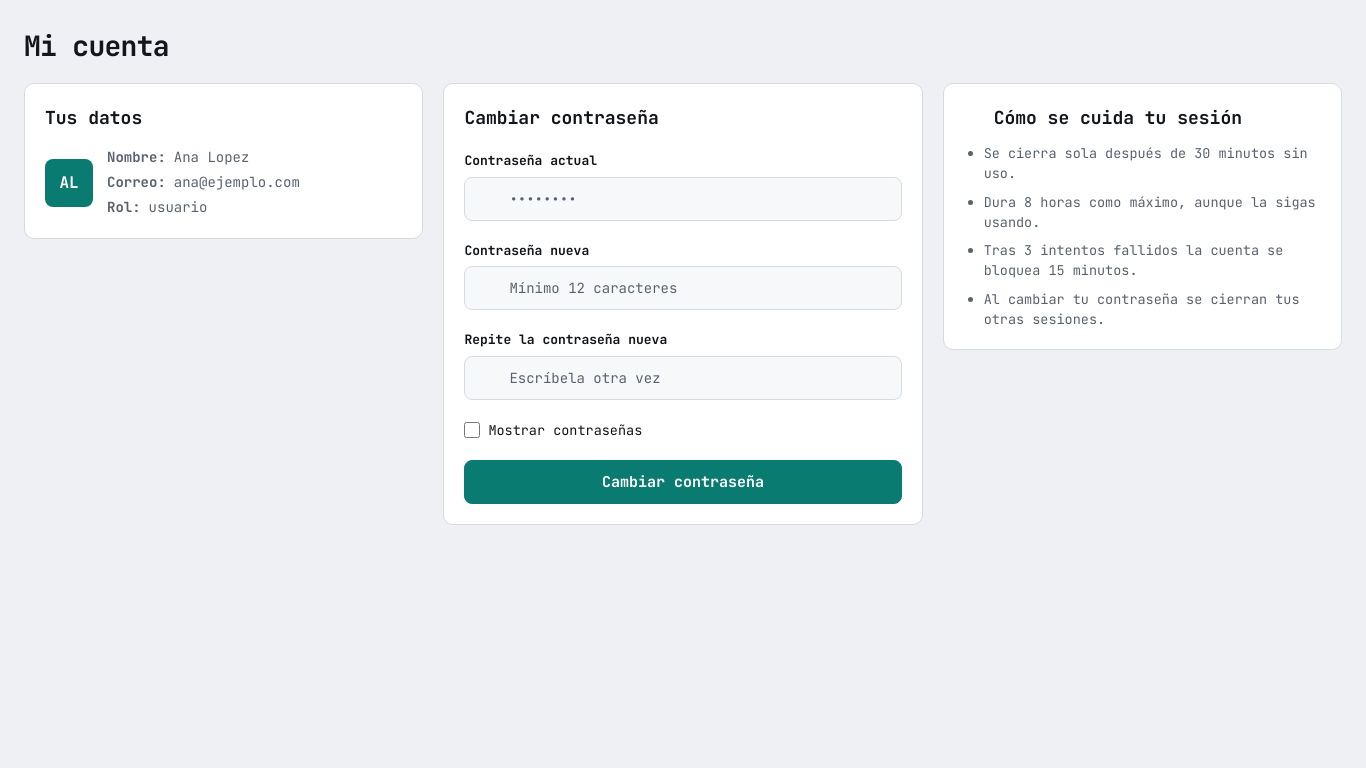
Test case: PaginaMiCuenta › no envía si actual / corta / corta
Type "actual" into the password field labelled "Contraseña actual" at (683, 198), box [464, 176, 902, 220]
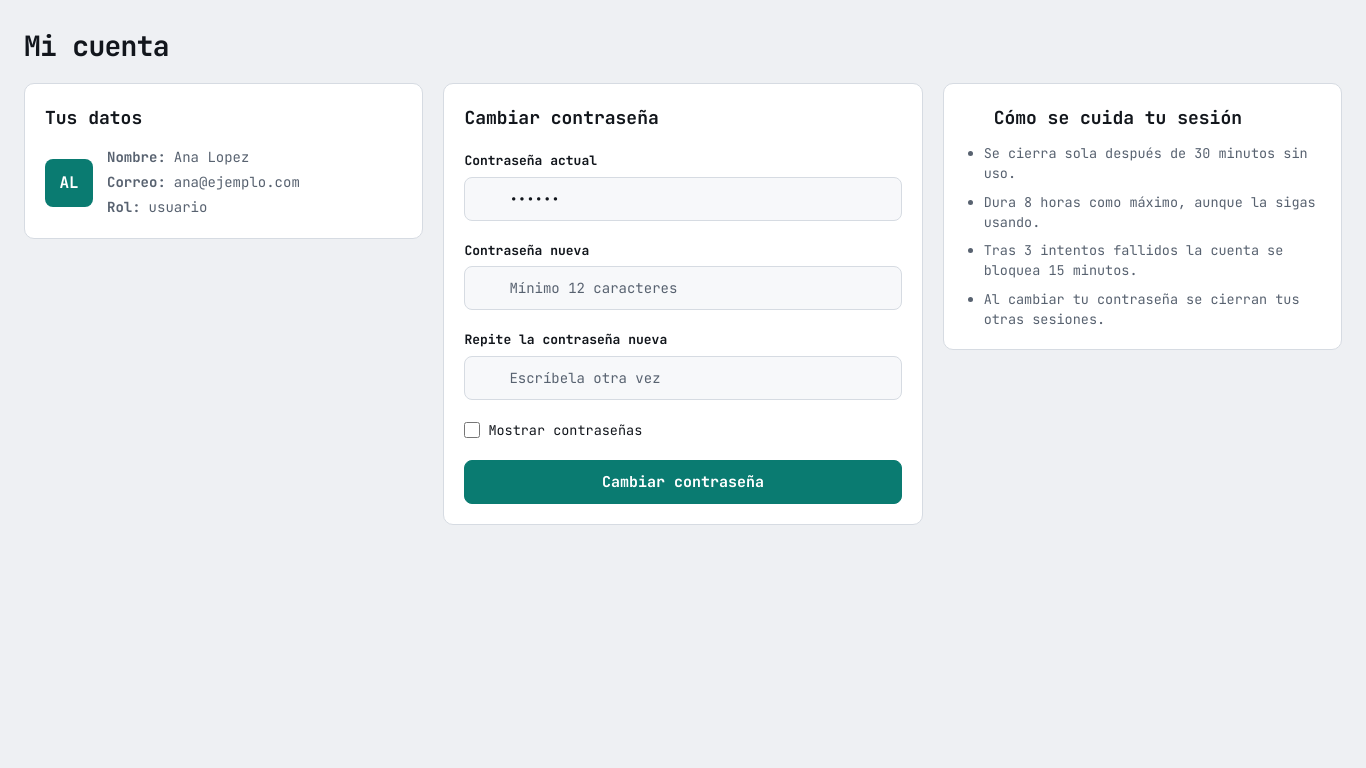
Type "corta" into the password field labelled "Contraseña nueva" at (683, 288), box [464, 266, 902, 310]
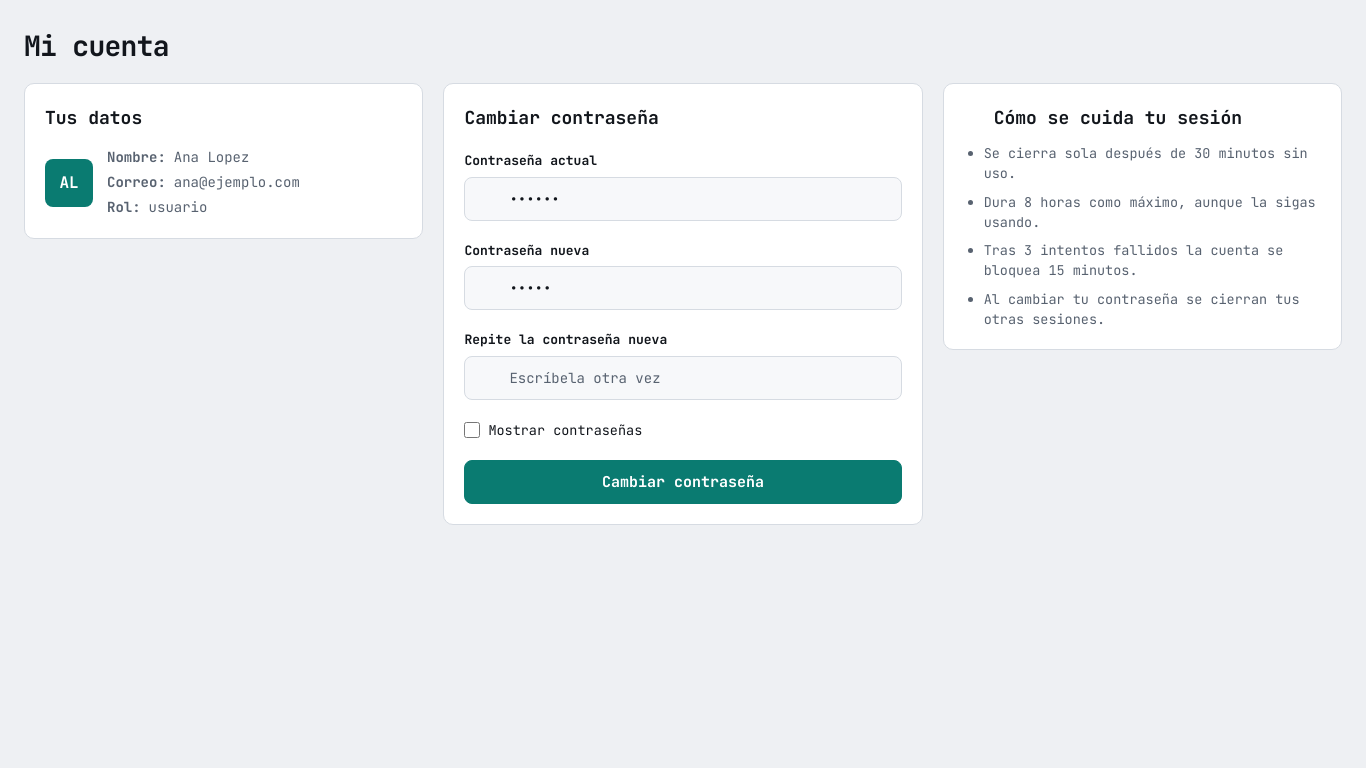
Type "corta" into the password field labelled "Repite la contraseña nueva" at (683, 378), box [464, 356, 902, 400]
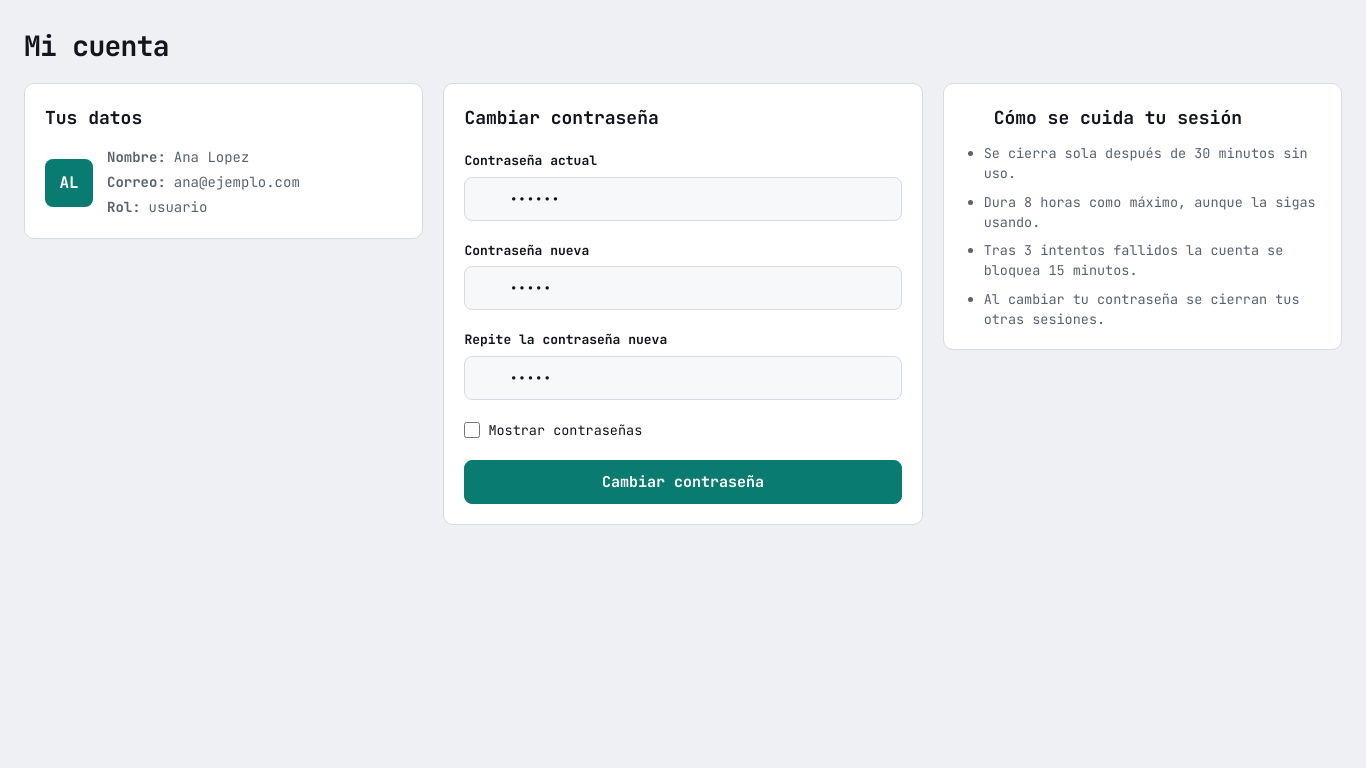
Click the button "Cambiar contraseña" at (683, 482), box [464, 460, 902, 504]
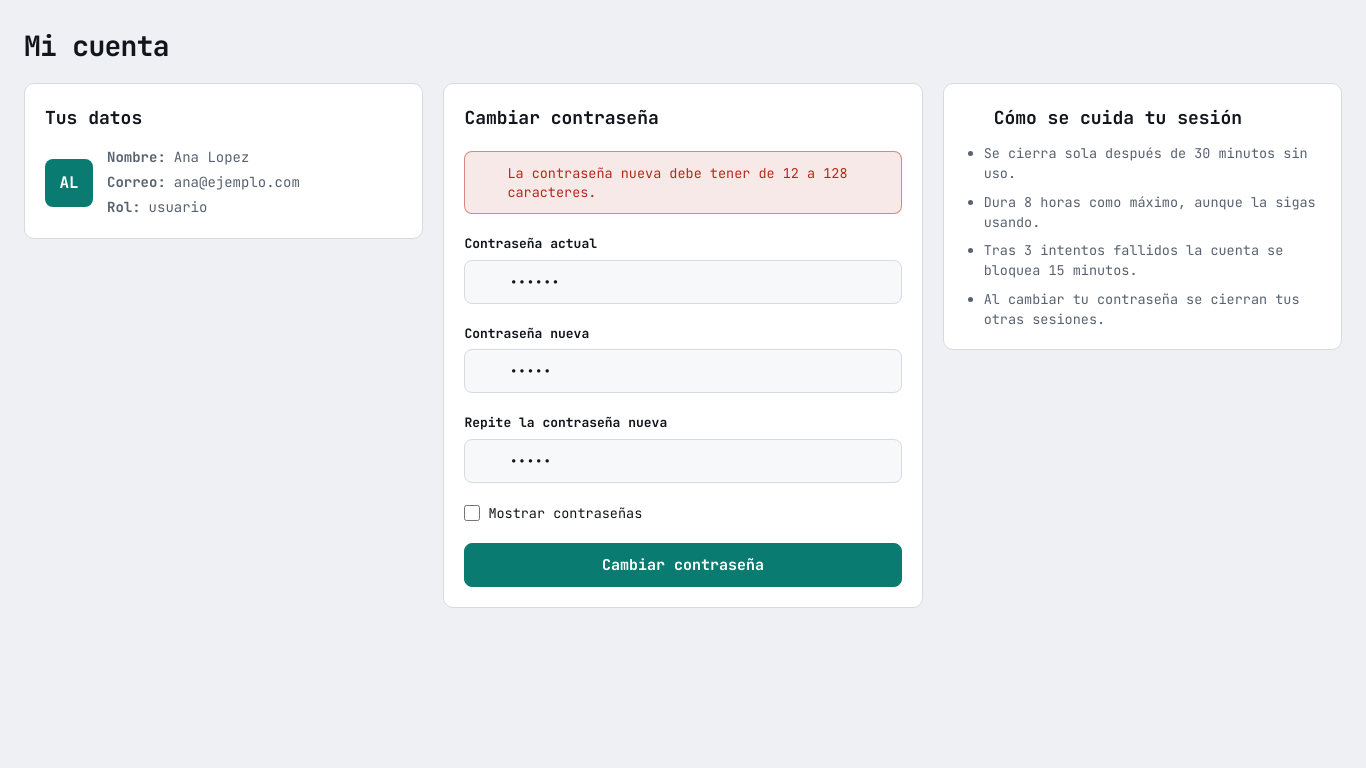
Expected: the message shows "de 12 a 128 caracteres", [507, 164, 848, 201]
